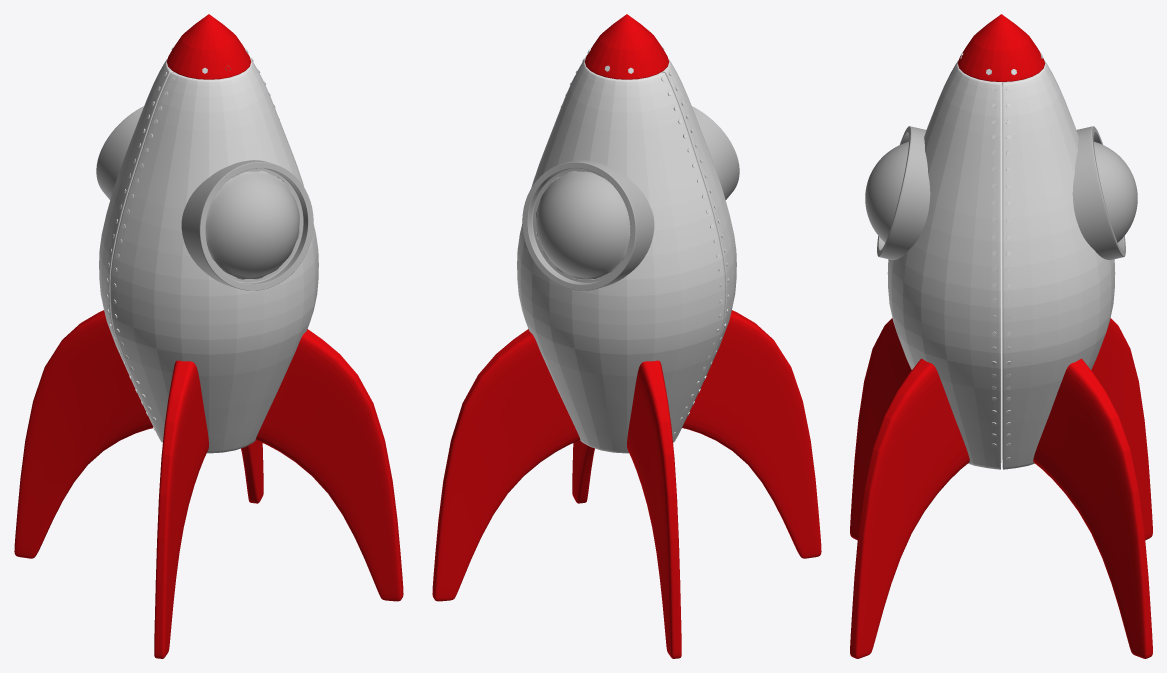
File: RocketShip.fbx
3 renders of one model, left to right at view 1: azimuth 30°, elevation 25°; view 2: azimuth 150°, elevation 25°; view 3: azimuth 270°, elevation 25°, orthographic. The views are drawn at different scales.
Parts seen in each view (by area): view 1: polySurface5, polySurface1, polySurface2; view 2: polySurface5, polySurface2, polySurface1; view 3: polySurface5, polySurface2, polySurface1.
Boxes of the visible parts, left/top/right/bottom form: polySurface5: left=14, top=14, right=403, bottom=658; polySurface1: left=181, top=160, right=313, bottom=290; polySurface2: left=96, top=106, right=143, bottom=199; polySurface5: left=432, top=14, right=821, bottom=658; polySurface2: left=522, top=160, right=654, bottom=290; polySurface1: left=692, top=106, right=739, bottom=199; polySurface5: left=850, top=14, right=1152, bottom=658; polySurface2: left=1072, top=126, right=1137, bottom=259; polySurface1: left=865, top=126, right=930, bottom=259.
Bounding box in the file's own units: 211 × 458 × 215.
